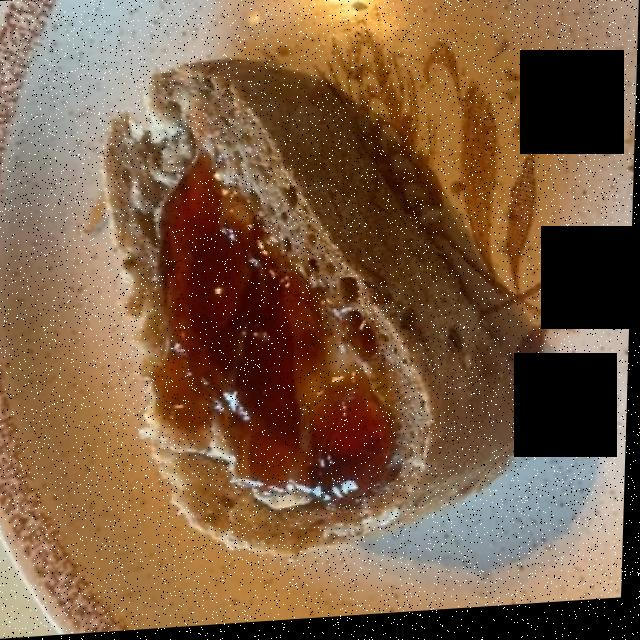bread-5-grain: (108, 68, 525, 549)
butter: (149, 166, 391, 520)
jam: (146, 158, 392, 507)
